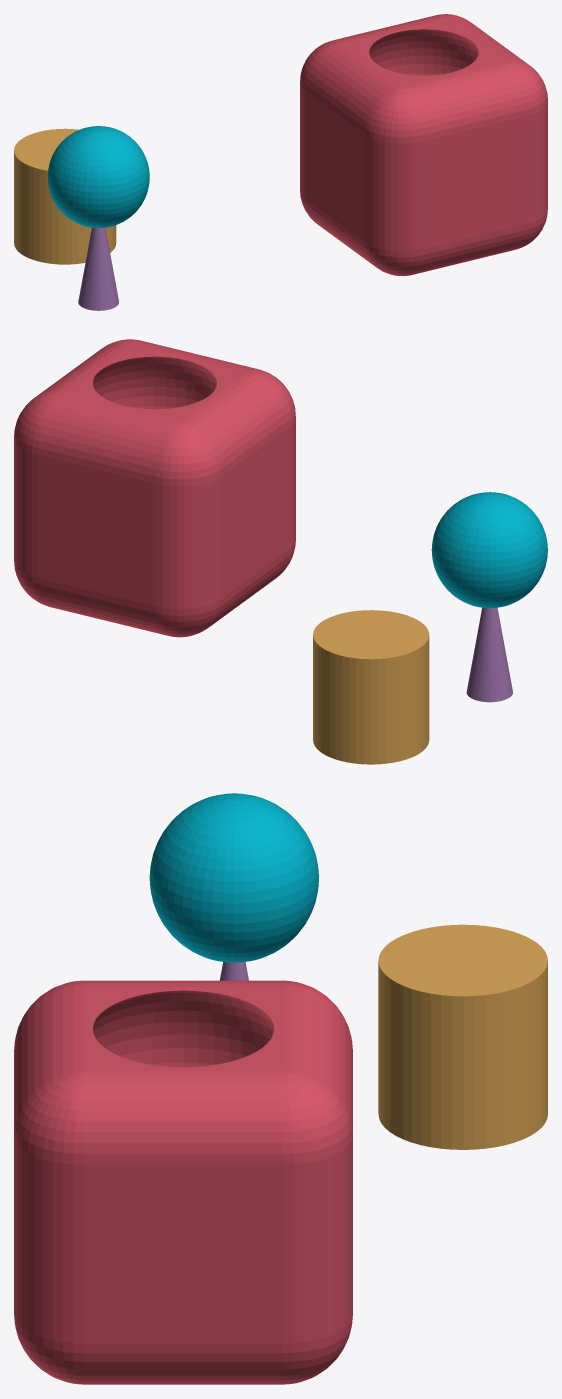
The model's file is Grand Maimu-Kup.glb.
3 views of the same model, one above another, from view 1: azimuth 30°, elevation 25°; view 2: azimuth 150°, elevation 25°; view 3: azimuth 270°, elevation 25° (orthographic). The views are drawn at different scales.
Parts seen in each view (by area): view 1: Mesh_Mesh_head_geo.001_lambert2SG.001; view 2: Mesh_Mesh_head_geo.001_lambert2SG.001; view 3: Mesh_Mesh_head_geo.001_lambert2SG.001.
Boxes of the visible parts, x1,y1,x2,y2 form: Mesh_Mesh_head_geo.001_lambert2SG.001: [14, 14, 547, 310]; Mesh_Mesh_head_geo.001_lambert2SG.001: [14, 339, 547, 764]; Mesh_Mesh_head_geo.001_lambert2SG.001: [14, 793, 547, 1384].
Size of the model in its own units: 0.1 by 0.04 by 0.063.
